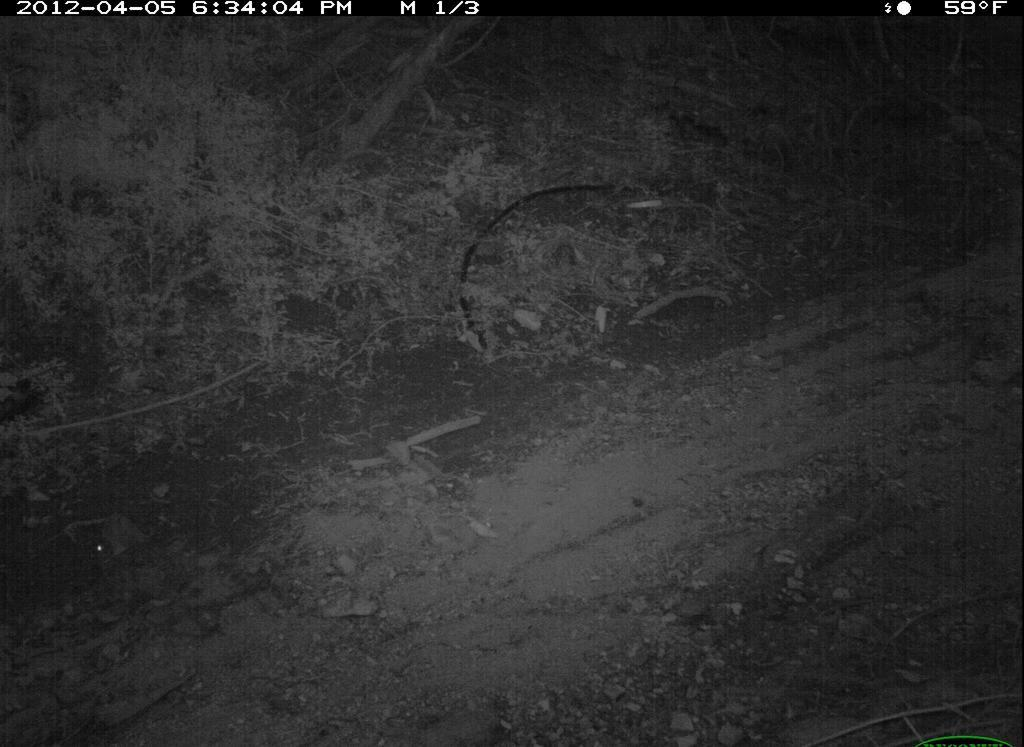rabbit: (81, 505, 166, 605)
